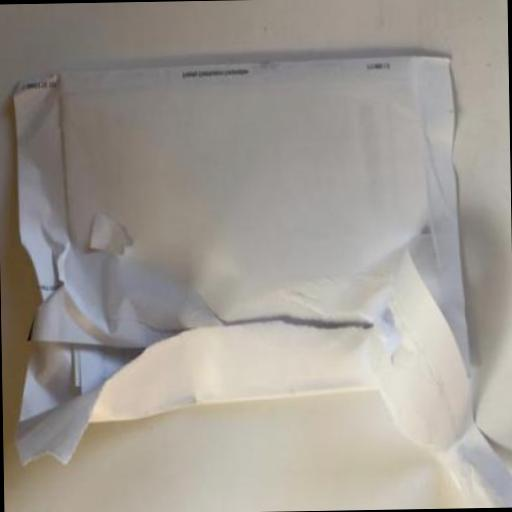paper: (9, 55, 512, 512)
